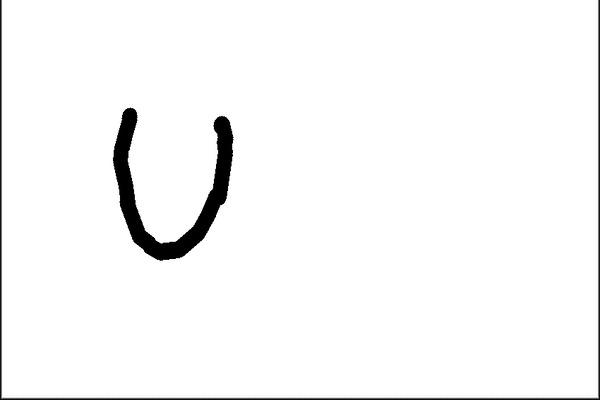U: (93, 103, 240, 267)
